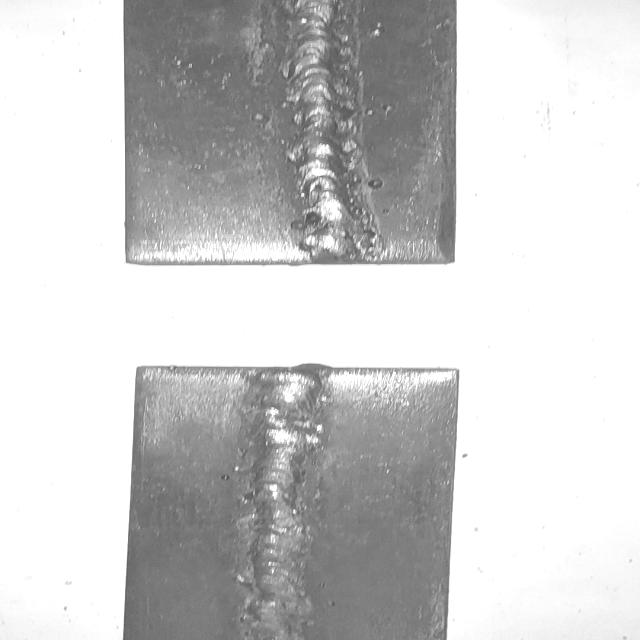Good Weld: (279, 0, 369, 257), (246, 371, 316, 640)
